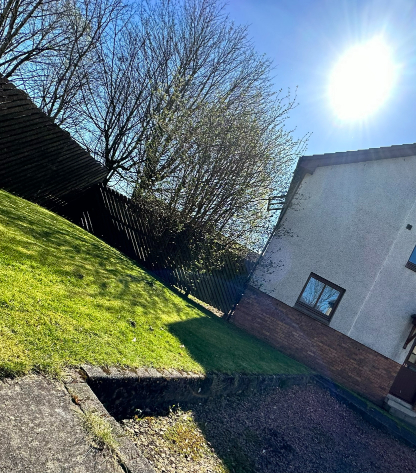tree: (162, 90, 286, 272)
